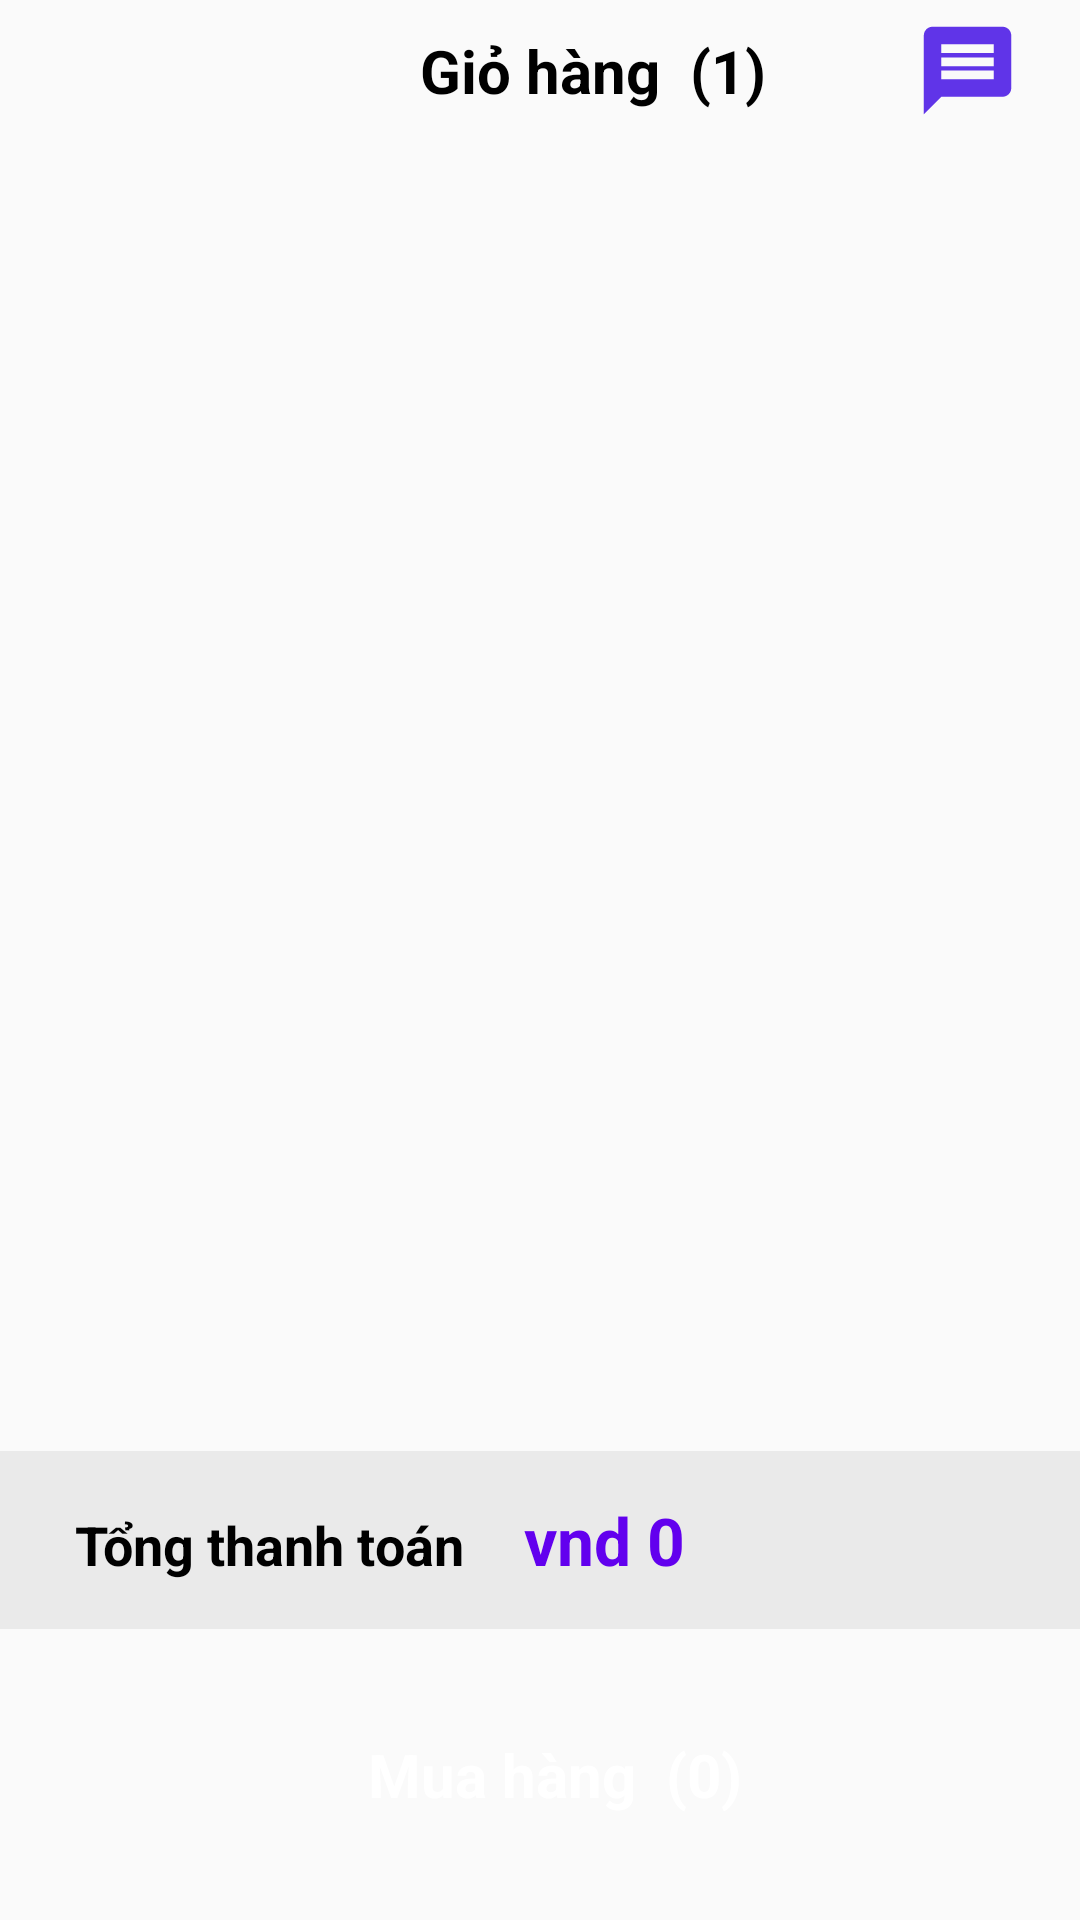

Screen size 1080 x 1920. Icon name, then its box in pixels as (x1, y1, x2, y2):
chat: (923, 26, 1012, 114)
